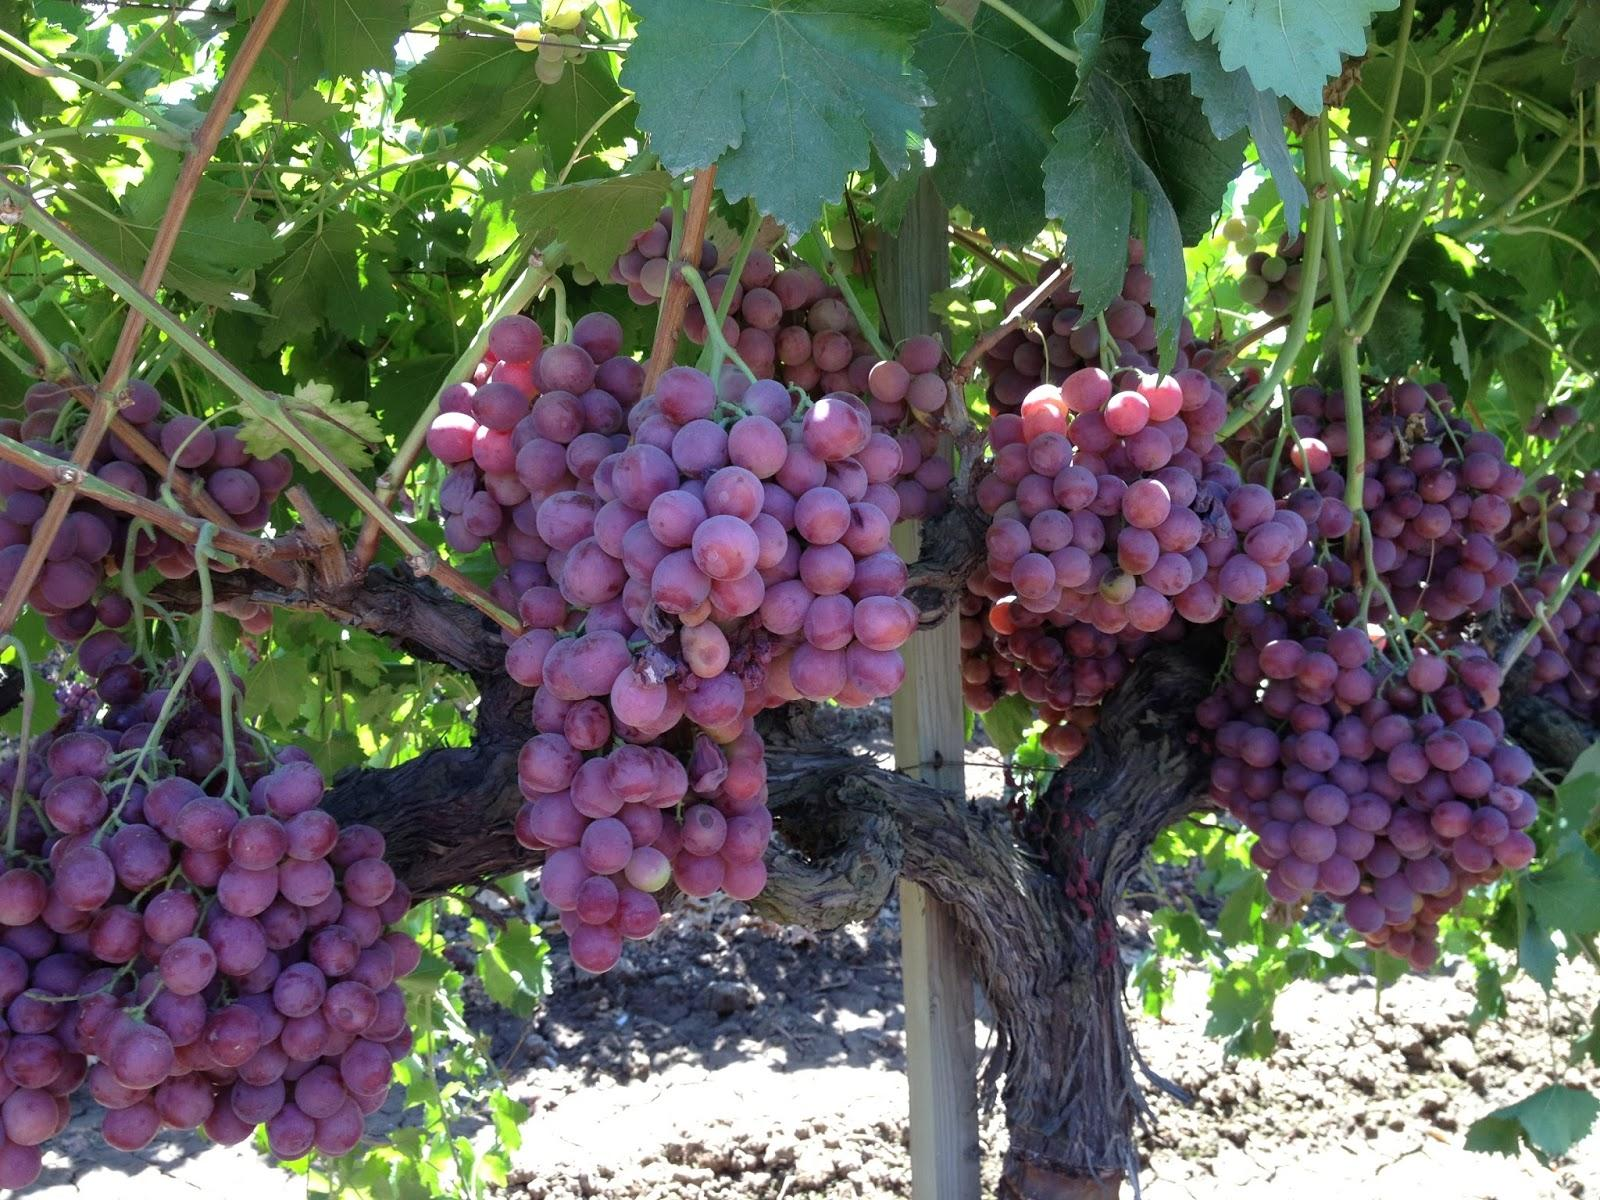grape: (401, 290, 918, 976), (10, 671, 446, 1200), (1204, 628, 1546, 964), (955, 350, 1304, 676)
